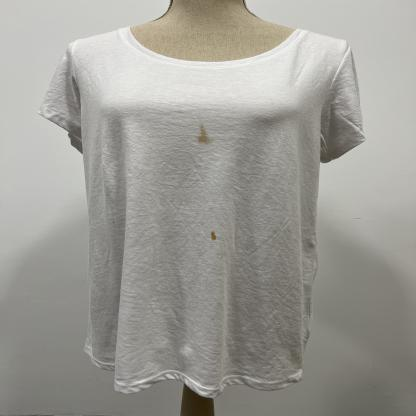stain: (187, 121, 219, 147), (208, 228, 219, 242)
